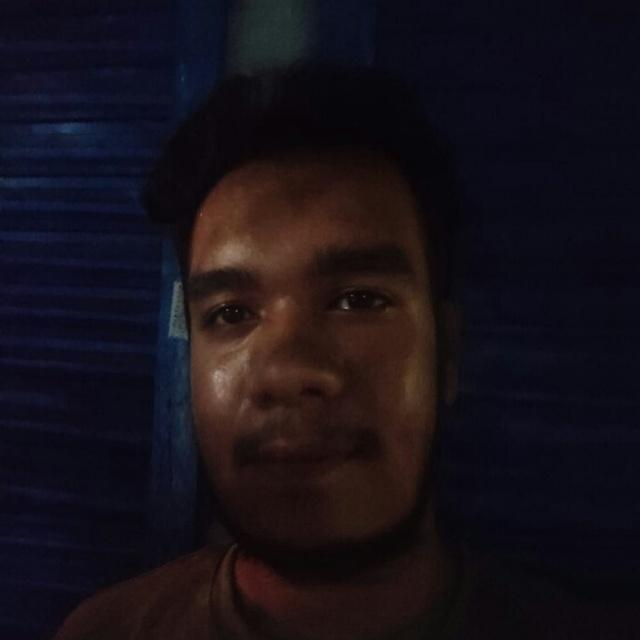Natural: (167, 110, 467, 545)
